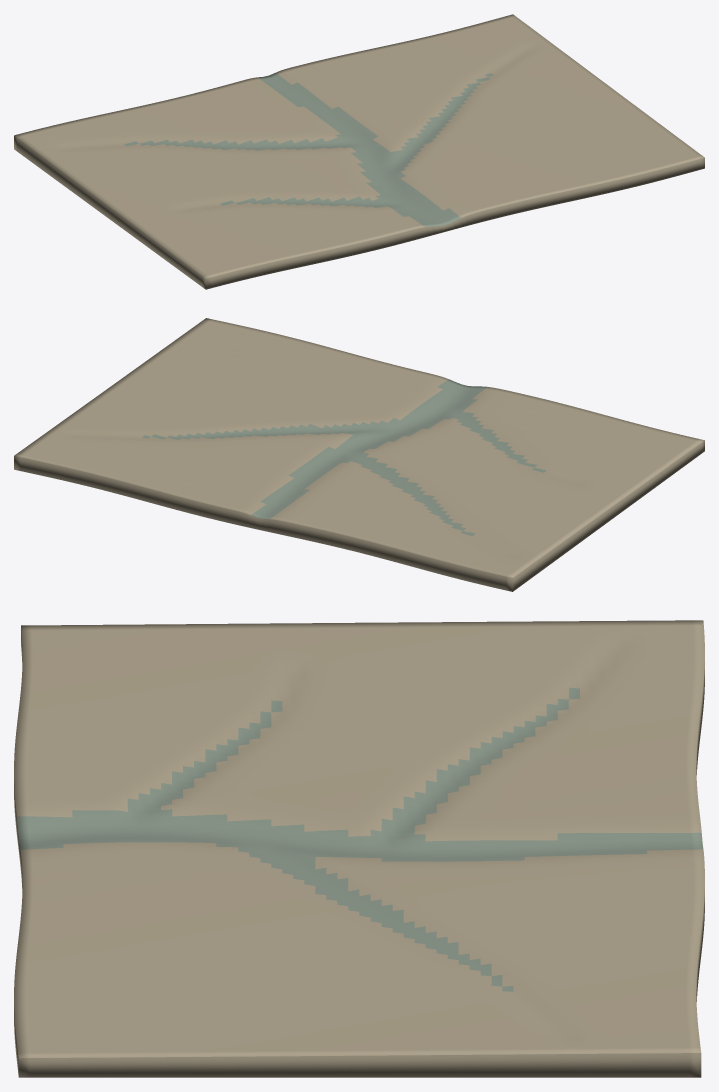
The model's file is tidal-flat.glb.
3 views of the same model, one above another, from view 1: azimuth 30°, elevation 25°; view 2: azimuth 150°, elevation 25°; view 3: azimuth 270°, elevation 25° (orthographic). The views are drawn at different scales.
Parts seen in each view (by area): view 1: six-metre continuous low-gradient tidal-flat patch with conn; view 2: six-metre continuous low-gradient tidal-flat patch with conn; view 3: six-metre continuous low-gradient tidal-flat patch with conn.
Part boxes in pixels (x1=…): six-metre continuous low-gradient tidal-flat patch with conn: x1=14, y1=14, x2=704, y2=289; six-metre continuous low-gradient tidal-flat patch with conn: x1=14, y1=318, x2=704, y2=591; six-metre continuous low-gradient tidal-flat patch with conn: x1=14, y1=620, x2=704, y2=1077.
Size of the model in its own units: 6 by 0.1602 by 4.05.
